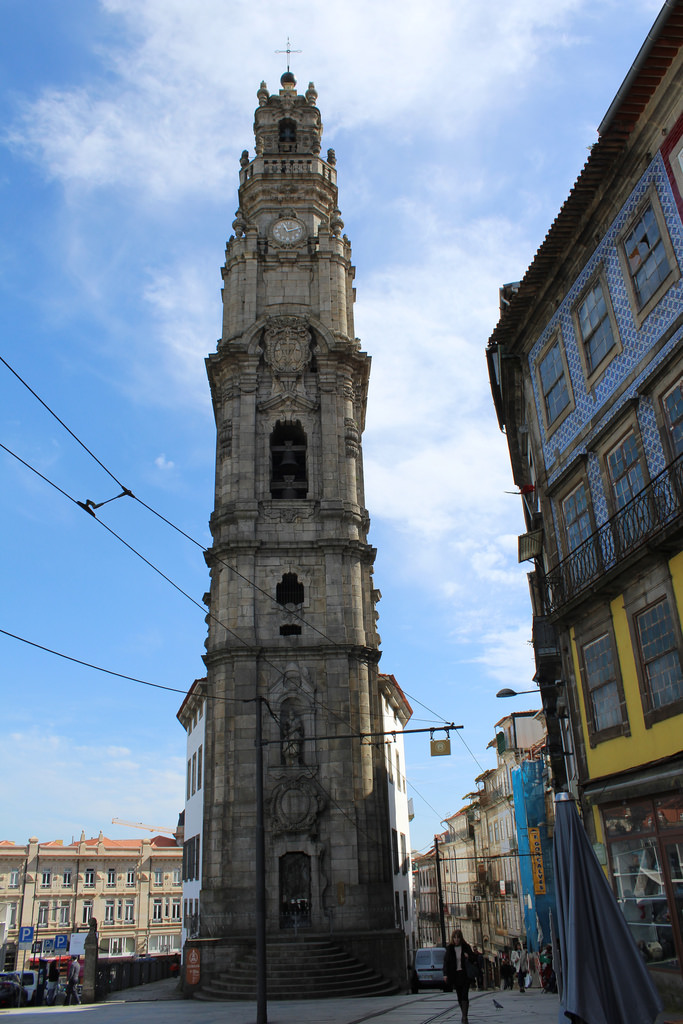clerigos: (201, 35, 392, 936)
